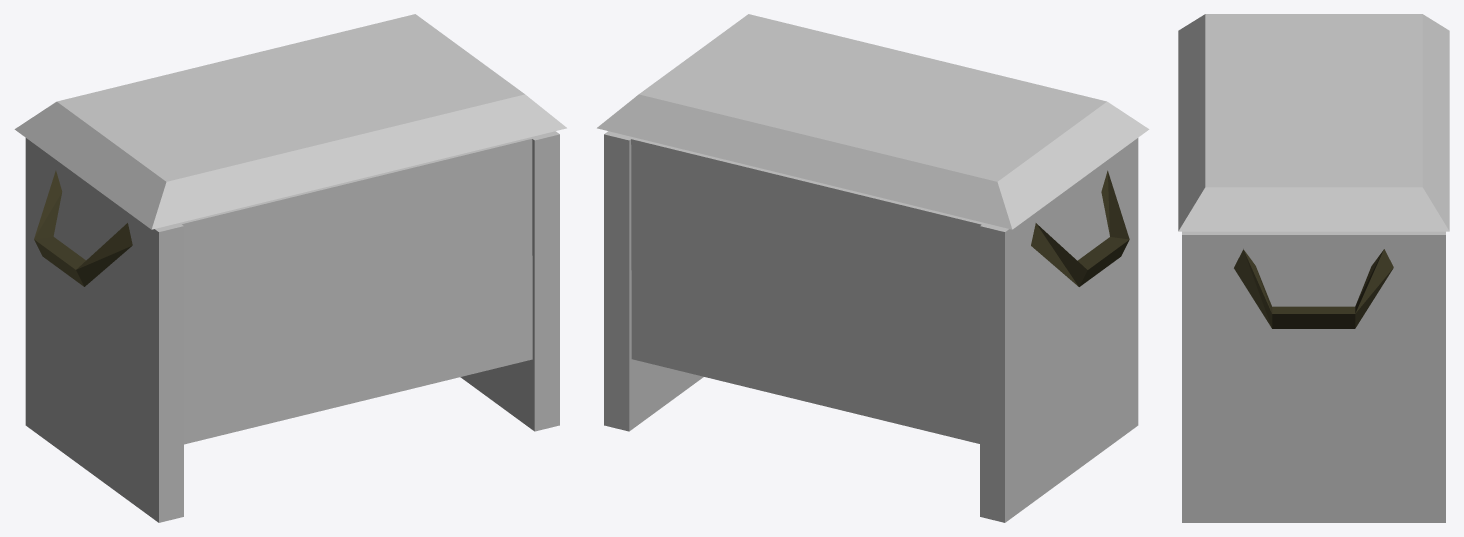
Rendered from DT_CRATE_V1.OBJ.
The picture shows the model from 3 angles, left to right: view 1: azimuth 30°, elevation 25°; view 2: azimuth 150°, elevation 25°; view 3: azimuth 270°, elevation 25°; orthographic projection.
Parts seen in each view (by area): view 1: DT_CRATE_V1; view 2: DT_CRATE_V1; view 3: DT_CRATE_V1.
Part boxes in pixels (x1=…): DT_CRATE_V1: x1=14, y1=14, x2=566, y2=522; DT_CRATE_V1: x1=597, y1=14, x2=1149, y2=522; DT_CRATE_V1: x1=1178, y1=14, x2=1449, y2=522.
Size of the model in its own units: 0.7958 by 0.5258 by 0.3984.
